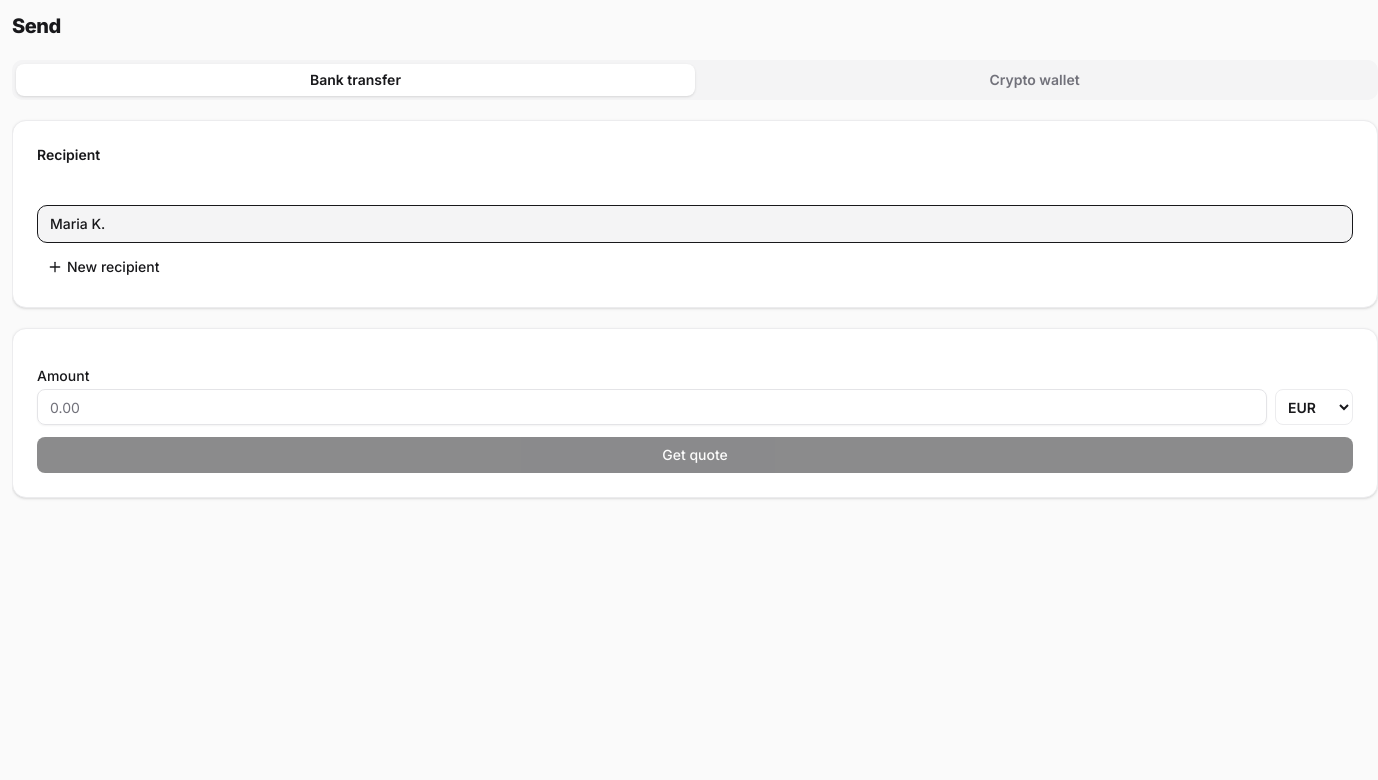
Scenario: Send › shows an error notice for insufficient funds
Click the button "Maria K." at (78, 224), box [37,205,1353,243]
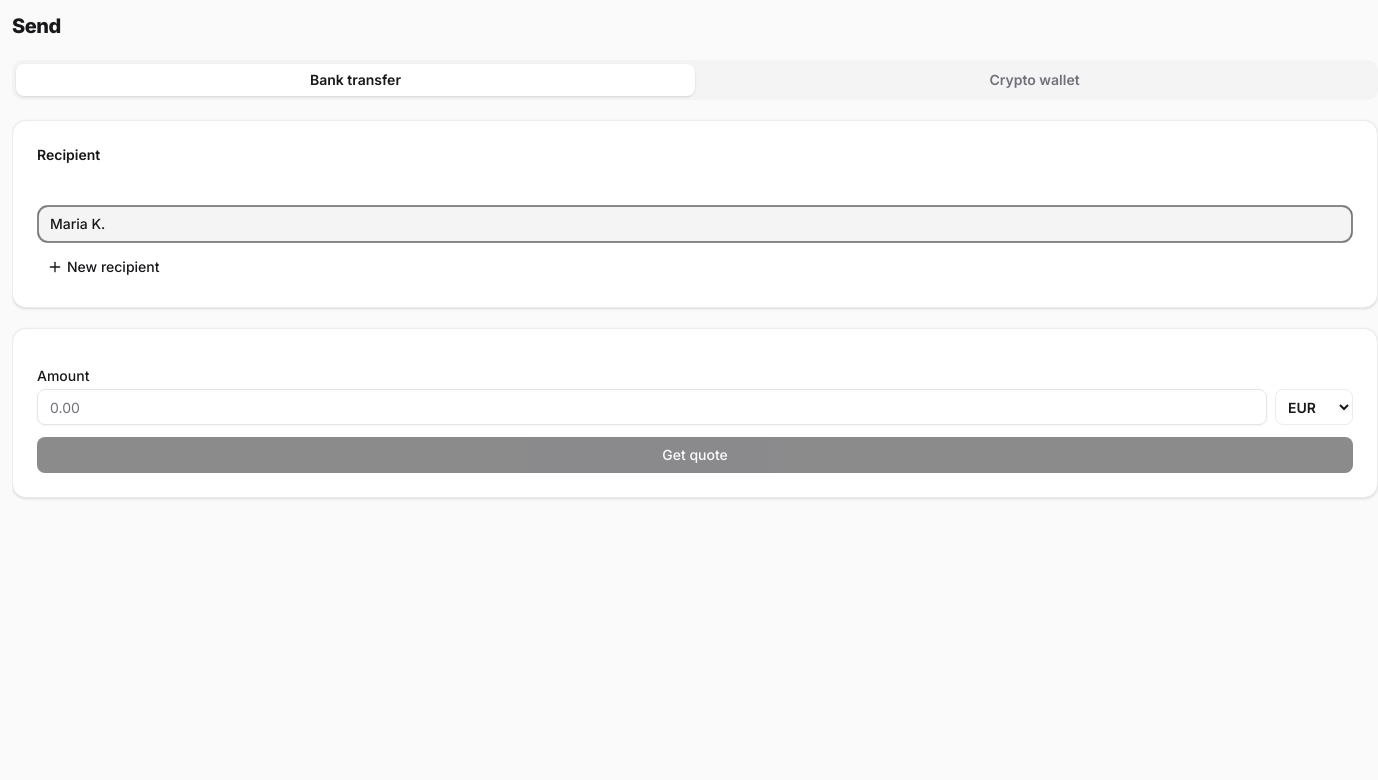
Type "9999999" into the field labelled "Amount" at (652, 407), box [37,389,1267,425]
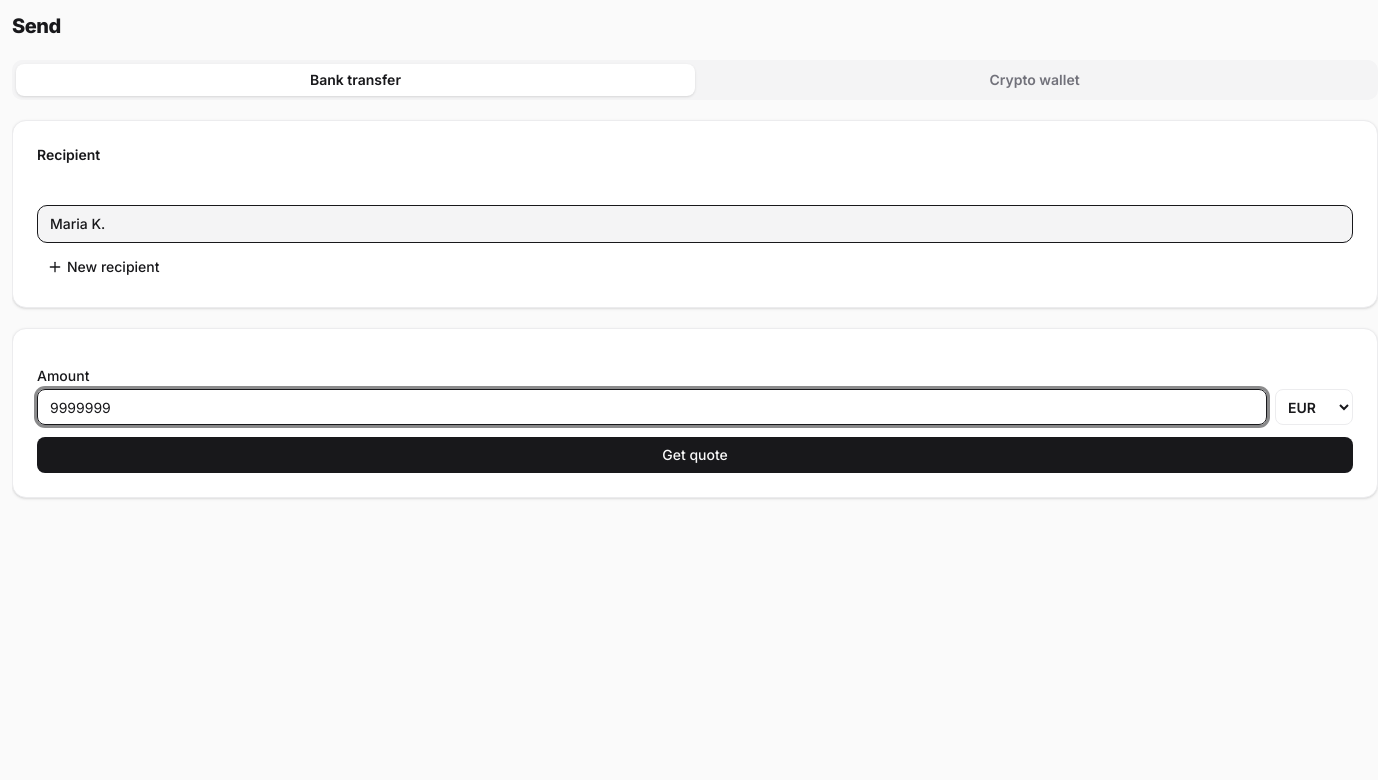
Click the button "Get quote" at (695, 455), box [37,437,1353,473]
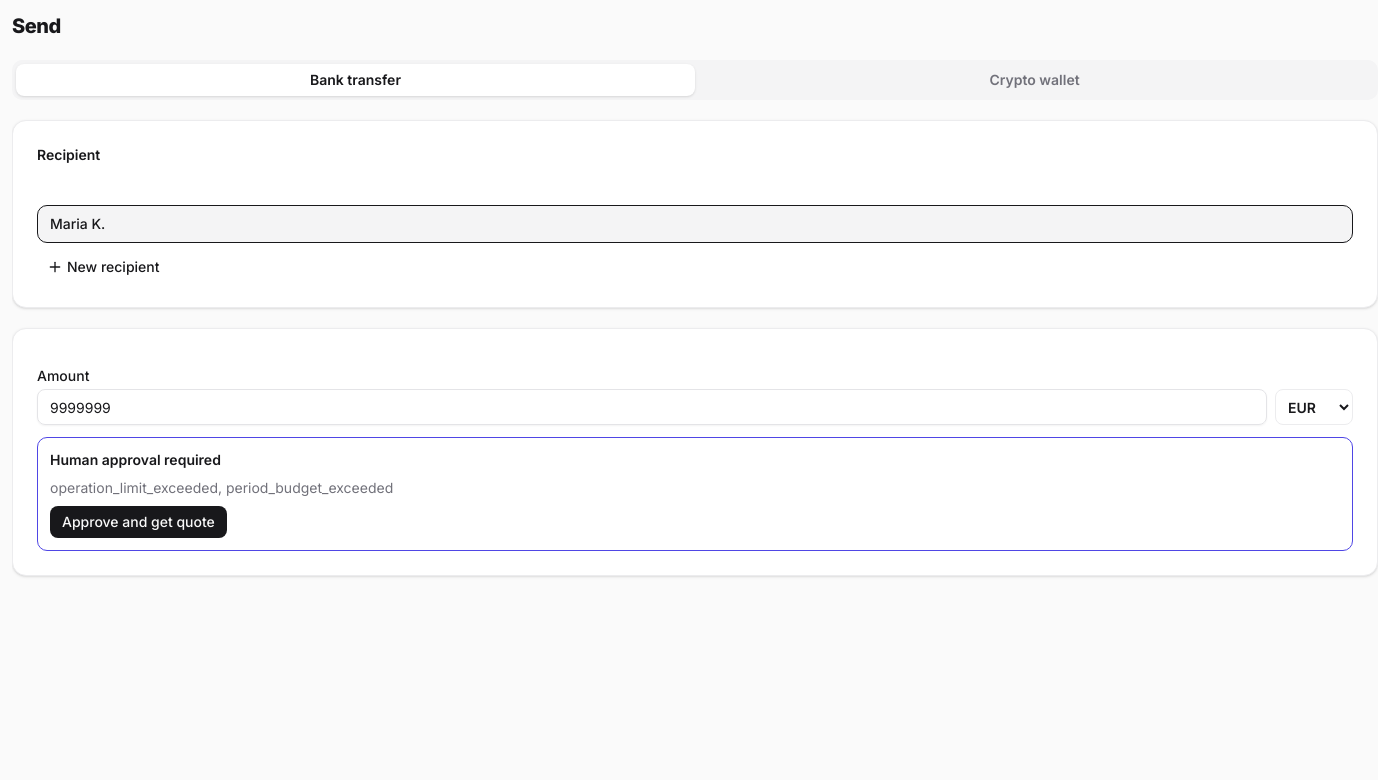
Result: the text "Human approval required" is shown at [50,451,221,468]
Click the button "Approve and get quote" at (138, 522), box [50,506,227,538]
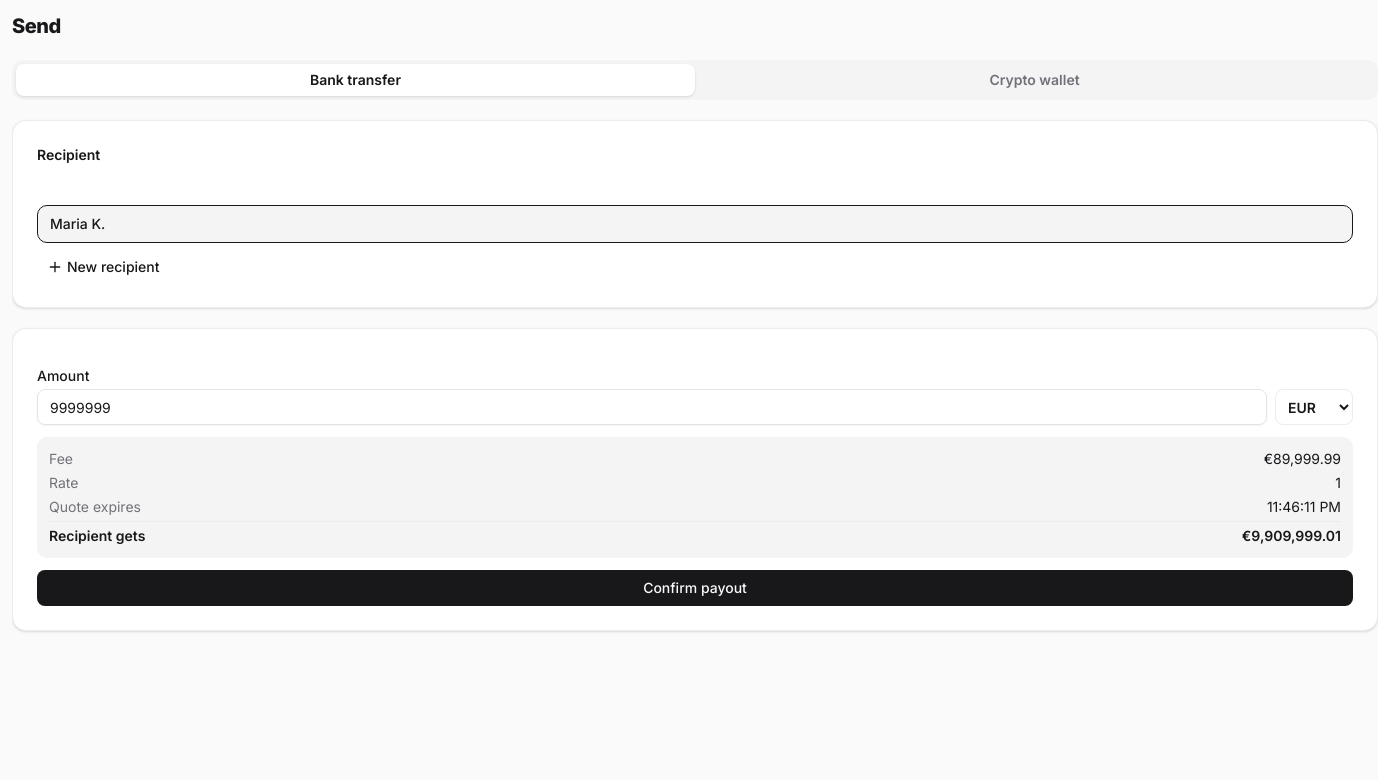
Click the button "Confirm payout" at (695, 588), box [37,570,1353,606]
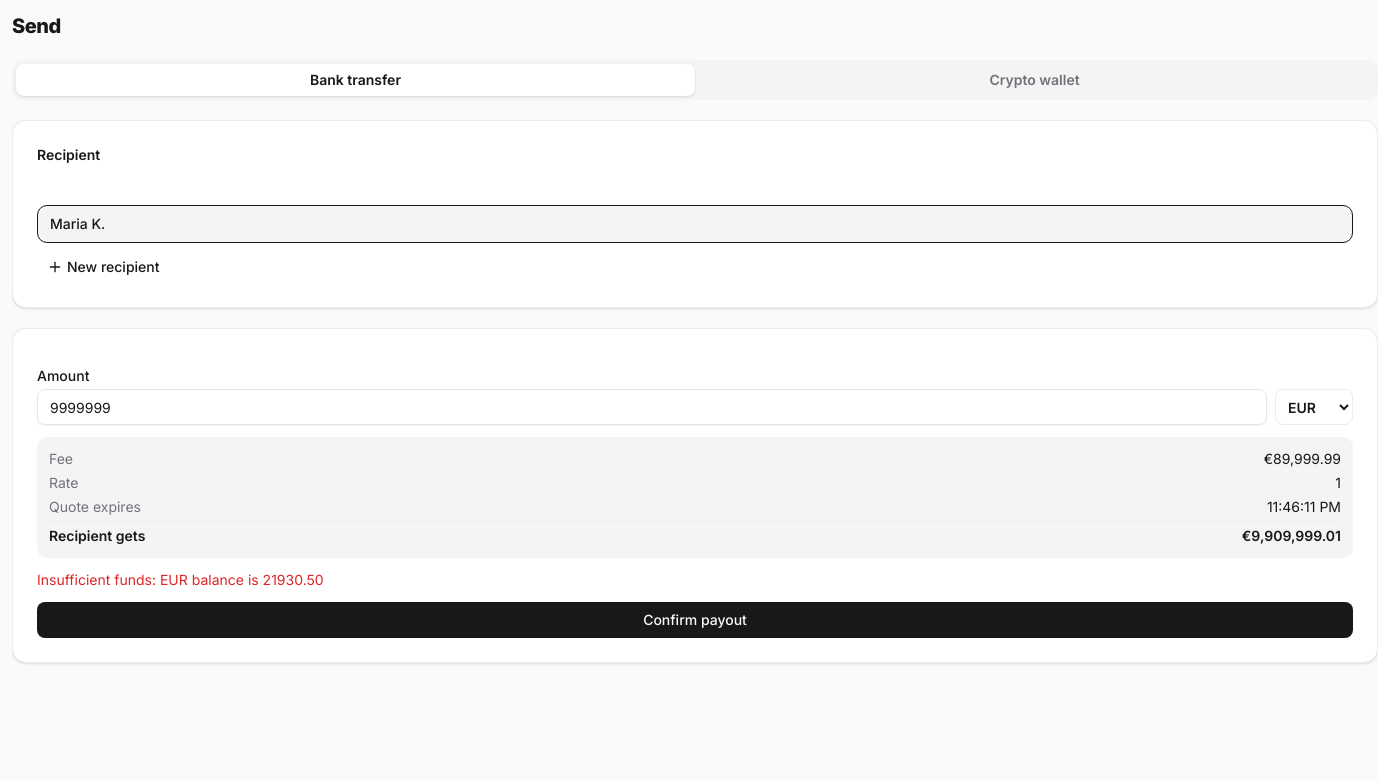
Result: the text "Insufficient funds: EUR balance is 21930.50" is shown at [37,571,324,588]
